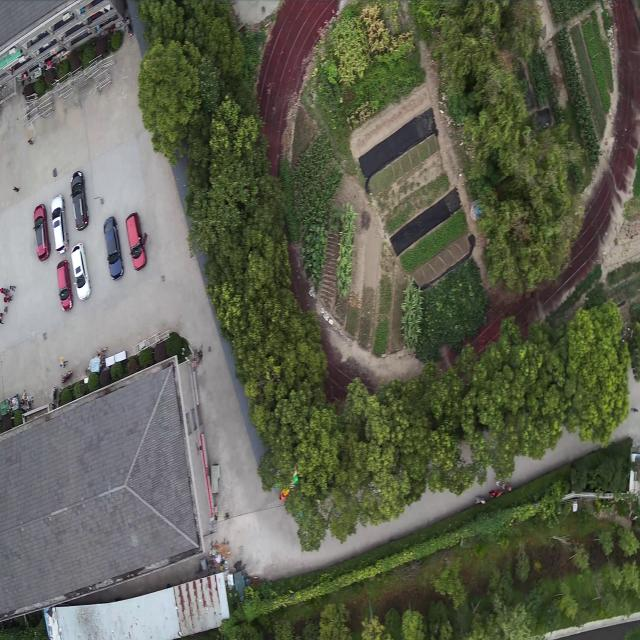UAV: (126, 532, 142, 549)
